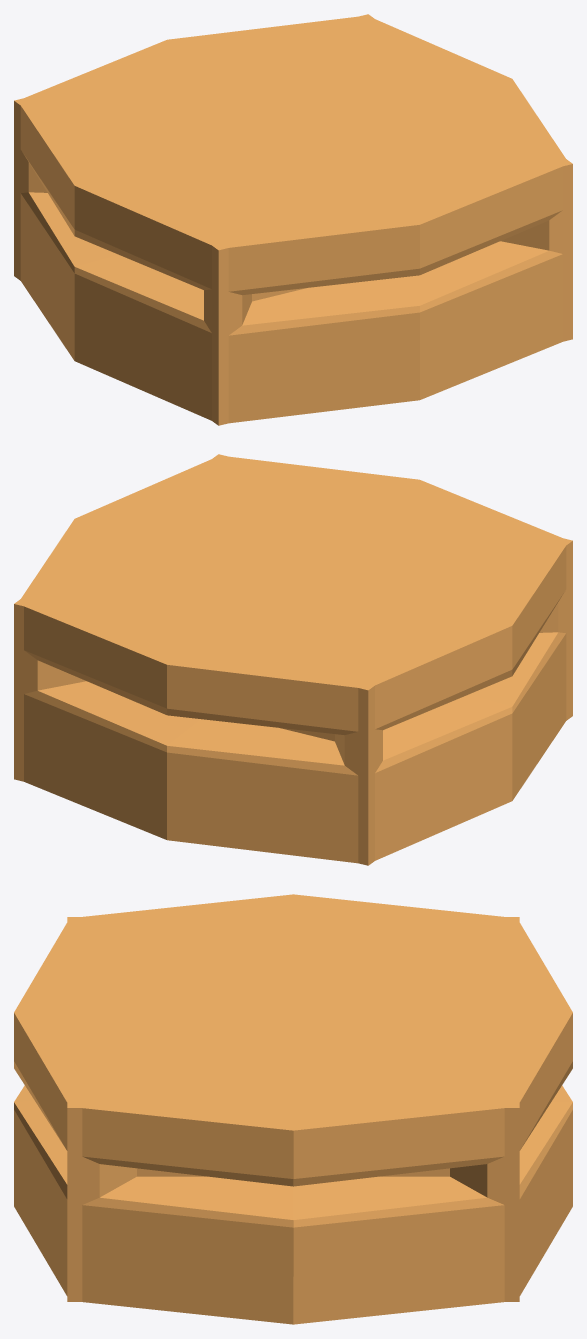
File: Tower_Base_Light_Brown.fbx
3 renders of one model, top to bottom at view 1: azimuth 30°, elevation 25°; view 2: azimuth 150°, elevation 25°; view 3: azimuth 270°, elevation 25°, orthographic. The views are drawn at different scales.
Visible parts, largest first — view 1: Base_Light_Brown; view 2: Base_Light_Brown; view 3: Base_Light_Brown.
Boxes of the visible parts, x1,y1,x2,y2 form: Base_Light_Brown: (14,14,572,425); Base_Light_Brown: (14,454,572,865); Base_Light_Brown: (14,894,572,1324).
Size of the model in its own units: 2471 by 946 by 2471.
